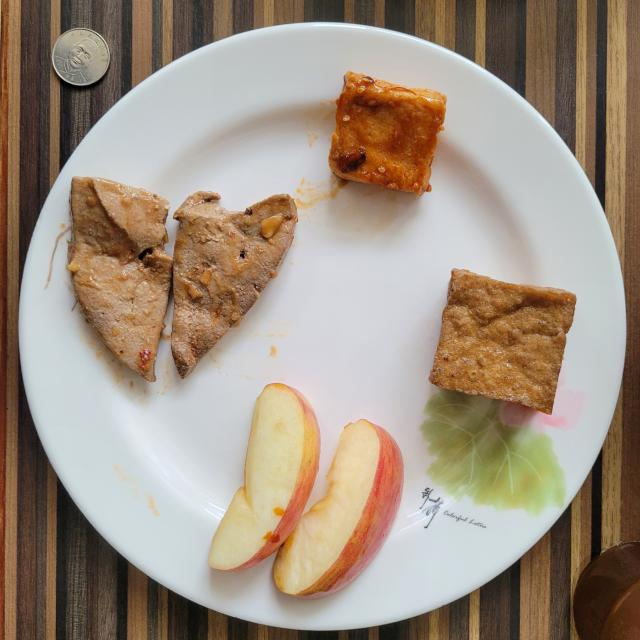apple -sliced-: (208, 384, 402, 598)
coin: (51, 29, 110, 86)
creamy tofu: (329, 71, 446, 195)
egg tofu: (429, 269, 576, 414)
pig liver: (68, 178, 298, 381)
